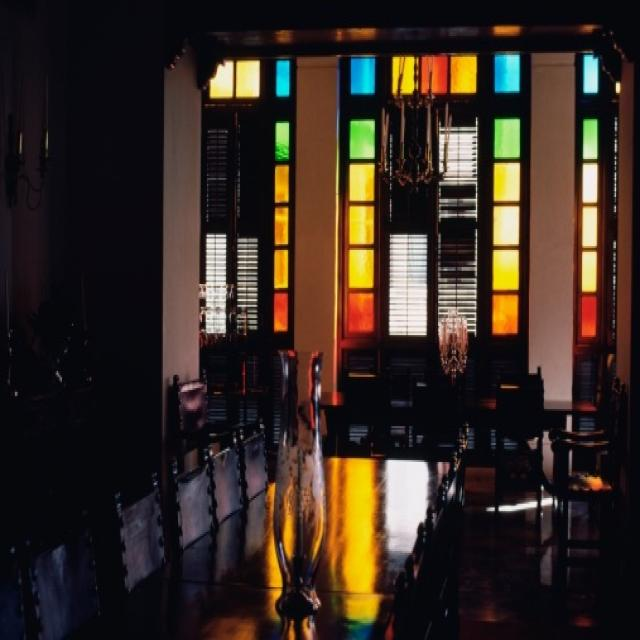Cup: (273, 338, 339, 624)
Table: (38, 371, 480, 640)
chair: (546, 371, 640, 606), (15, 518, 123, 635), (485, 354, 545, 541), (107, 447, 167, 584), (171, 428, 225, 553), (207, 405, 253, 529), (236, 382, 274, 521)
